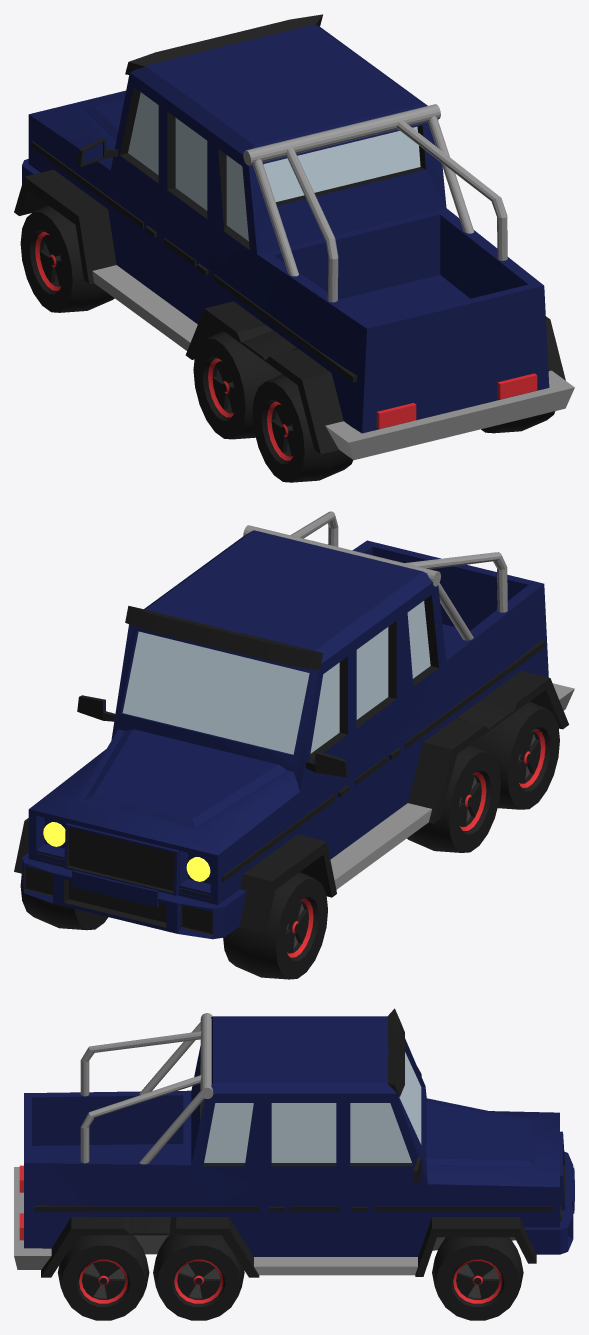
File: AMG_66.fbx
3 views of the same model, one above another, from view 1: azimuth 30°, elevation 25°; view 2: azimuth 150°, elevation 25°; view 3: azimuth 270°, elevation 25° (orthographic). The views are drawn at different scales.
Parts seen in each view (by area): view 1: AMG 66, Barre_Arrière, AMG 66.001, AMG 66.002; view 2: AMG 66, Barre_Arrière, AMG 66.001, AMG 66.002; view 3: AMG 66, Barre_Arrière, AMG 66.002, AMG 66.001.
Part boxes in pixels (left/top/right/bottom): AMG 66: left=14, top=14, right=574, bottom=482; Barre_Arrière: left=243, top=104, right=507, bottom=302; AMG 66.001: left=92, top=265, right=197, bottom=350; AMG 66.002: left=31, top=141, right=357, bottom=382; AMG 66: left=14, top=530, right=574, bottom=979; Barre_Arrière: left=243, top=511, right=507, bottom=640; AMG 66.001: left=330, top=803, right=431, bottom=889; AMG 66.002: left=222, top=640, right=545, bottom=882; AMG 66: left=14, top=1008, right=574, bottom=1320; Barre_Arrière: left=80, top=1013, right=213, bottom=1164; AMG 66.002: left=34, top=1205, right=553, bottom=1211; AMG 66.001: left=254, top=1257, right=417, bottom=1275.
Size of the model in its own units: 416 by 415 by 930.
